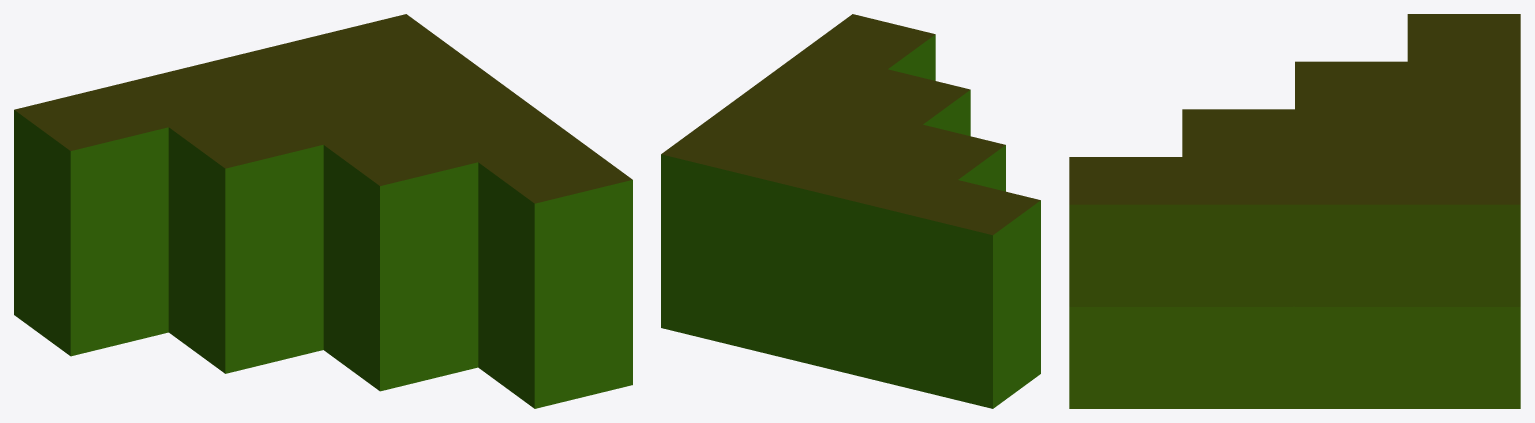
File: block_8.fbx
The picture shows the model from 3 angles, left to right: view 1: azimuth 30°, elevation 25°; view 2: azimuth 150°, elevation 25°; view 3: azimuth 270°, elevation 25°; orthographic projection. The views are drawn at different scales.
Parts seen in each view (by area): view 1: Box; view 2: Box; view 3: Box.
Boxes of the visible parts, x1,y1,x2,y2 form: Box: (14, 14, 632, 408); Box: (661, 14, 1040, 408); Box: (1069, 14, 1520, 408).
Bounding box in the file's own units: 4 × 4 × 2.
1 material, 1 textured.
